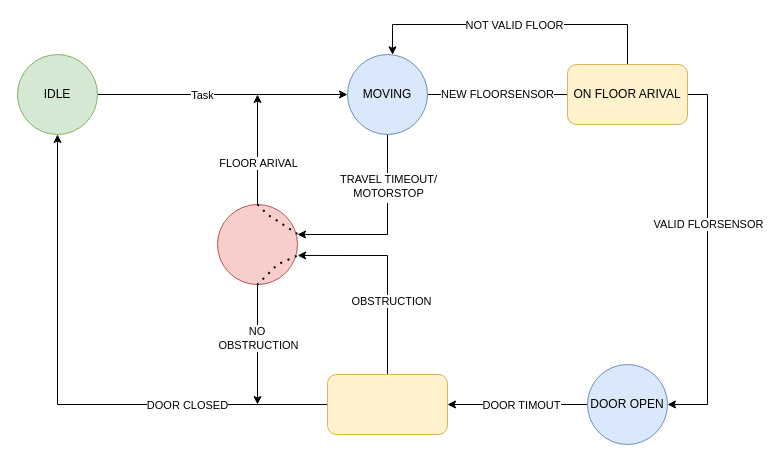
Some shapes in this 780 by 462 pixel diagram are drawn without their labels. Each missing label, with the centre of its shape:
ERROR: the point at 257,244
ON DORTIMOUT: the point at 387,404
